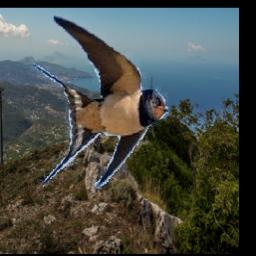Swallow: (31, 15, 169, 190)
